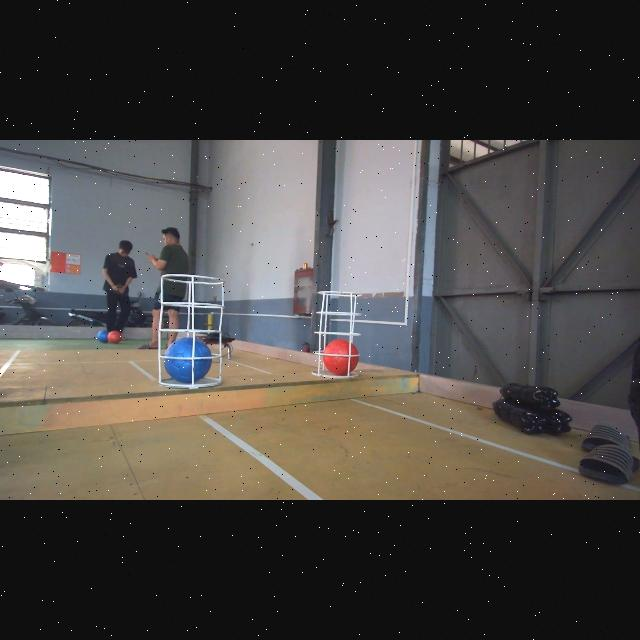B: (165, 336, 213, 384)
R: (323, 339, 362, 375)
